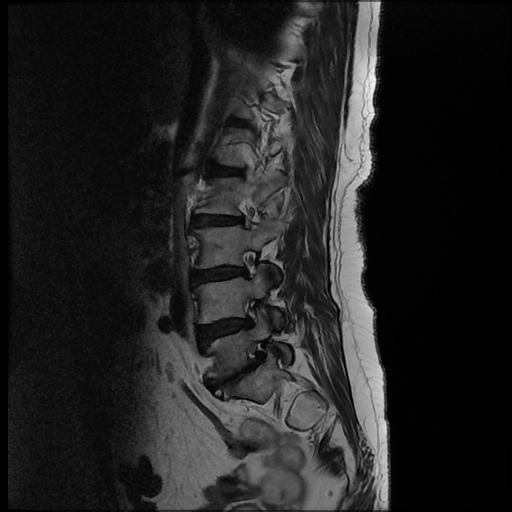RFS0: (229, 239, 272, 287)
RFS3: (238, 336, 279, 379), (231, 291, 267, 334)
